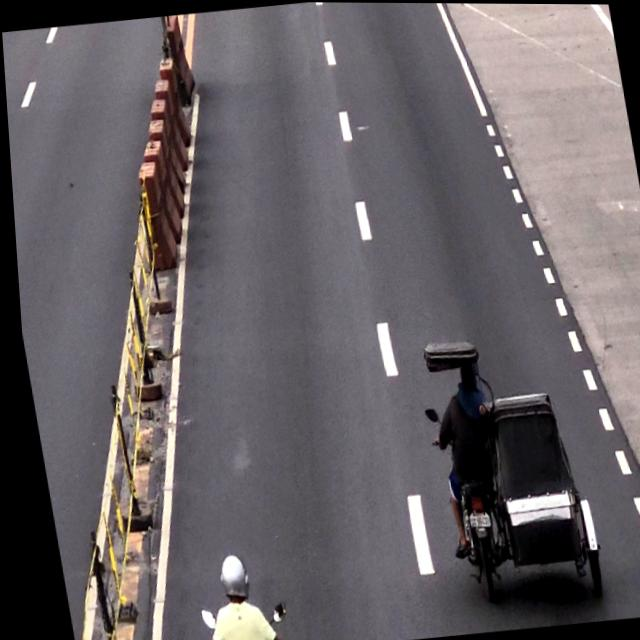License-Plate: (457, 508, 486, 529)
Motorcycle: (184, 549, 282, 640)
Tricycle: (412, 328, 601, 605)
